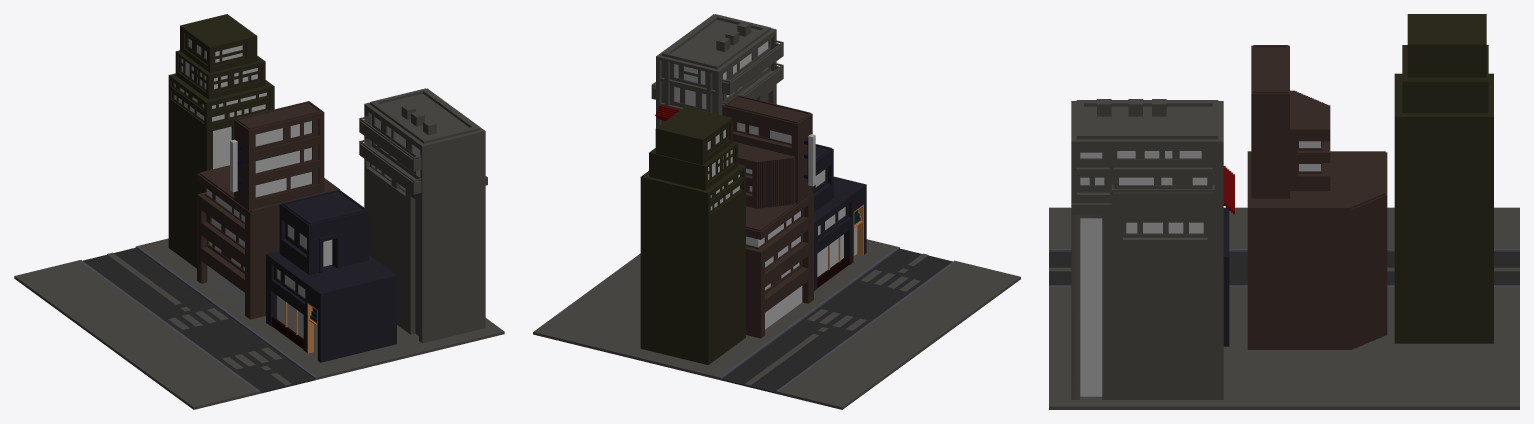
Rendered from Street5.fbx.
3 renders of one model, left to right at view 1: azimuth 30°, elevation 25°; view 2: azimuth 150°, elevation 25°; view 3: azimuth 270°, elevation 25°, orthographic. The views are drawn at different scales.
Parts seen in each view (by area): view 1: Street_5_001; view 2: Street_5_001; view 3: Street_5_001.
Boxes of the visible parts, x1,y1,x2,y2 form: Street_5_001: (14, 14, 504, 409); Street_5_001: (533, 14, 1020, 409); Street_5_001: (1049, 14, 1519, 409).
Bounding box in the file's own units: 25.6 × 17.7 × 25.6.
